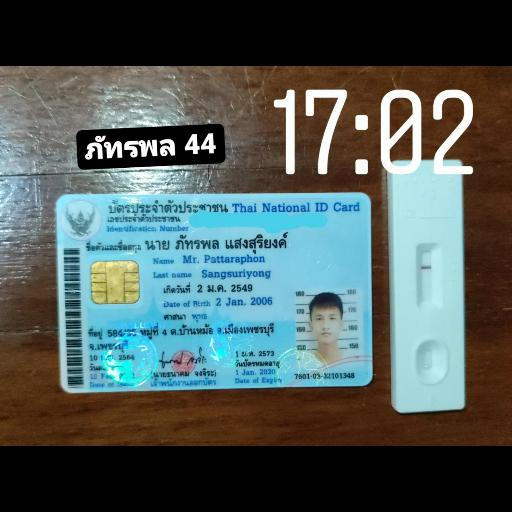Neg: (392, 158, 466, 412)
